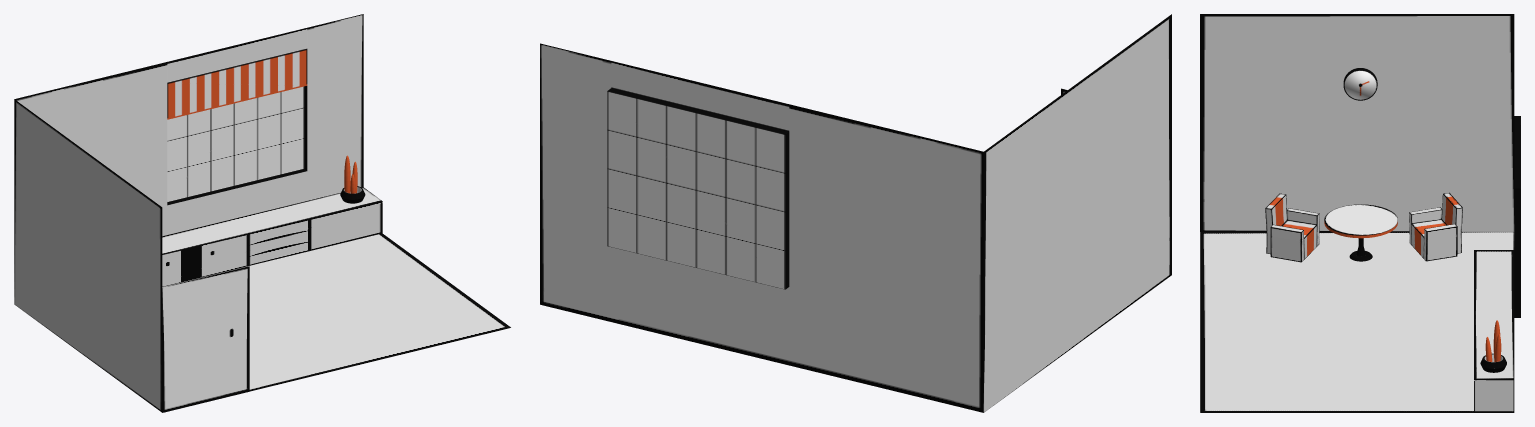
The model's file is office4.fbx.
3 renders of one model, left to right at view 1: azimuth 30°, elevation 25°; view 2: azimuth 150°, elevation 25°; view 3: azimuth 270°, elevation 25°, orthographic. The views are drawn at different scales.
Visible parts, largest first — view 1: Cube.001; view 2: Cube.001; view 3: Cube.001.
Part boxes in pixels (x1=…): Cube.001: x1=14, y1=14, x2=511, y2=412; Cube.001: x1=540, y1=14, x2=1171, y2=412; Cube.001: x1=1200, y1=14, x2=1520, y2=412.
Size of the model in its own units: 3200 by 1800 by 2400.
Materials: 2 (2 with a texture image).
